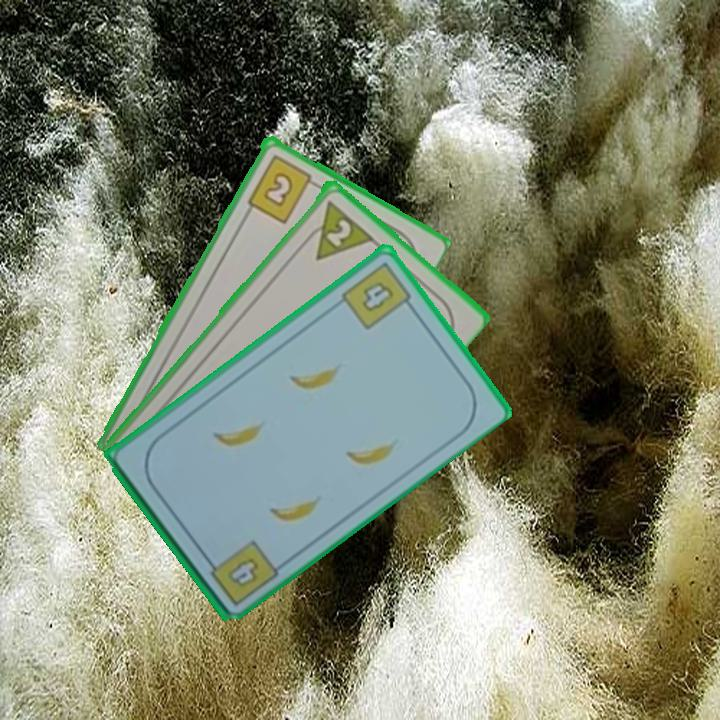2b: (243, 150, 322, 226)
2p: (297, 196, 375, 263)
4b: (337, 258, 418, 333), (201, 536, 281, 609)
